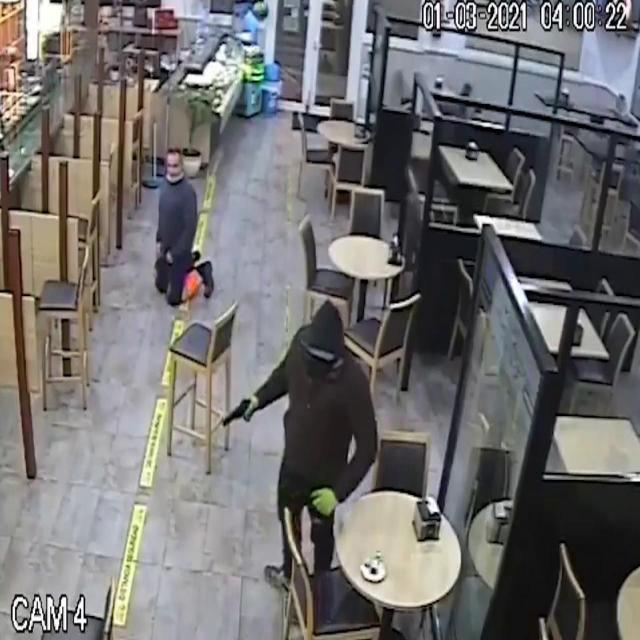weapon: (208, 385, 268, 439)
